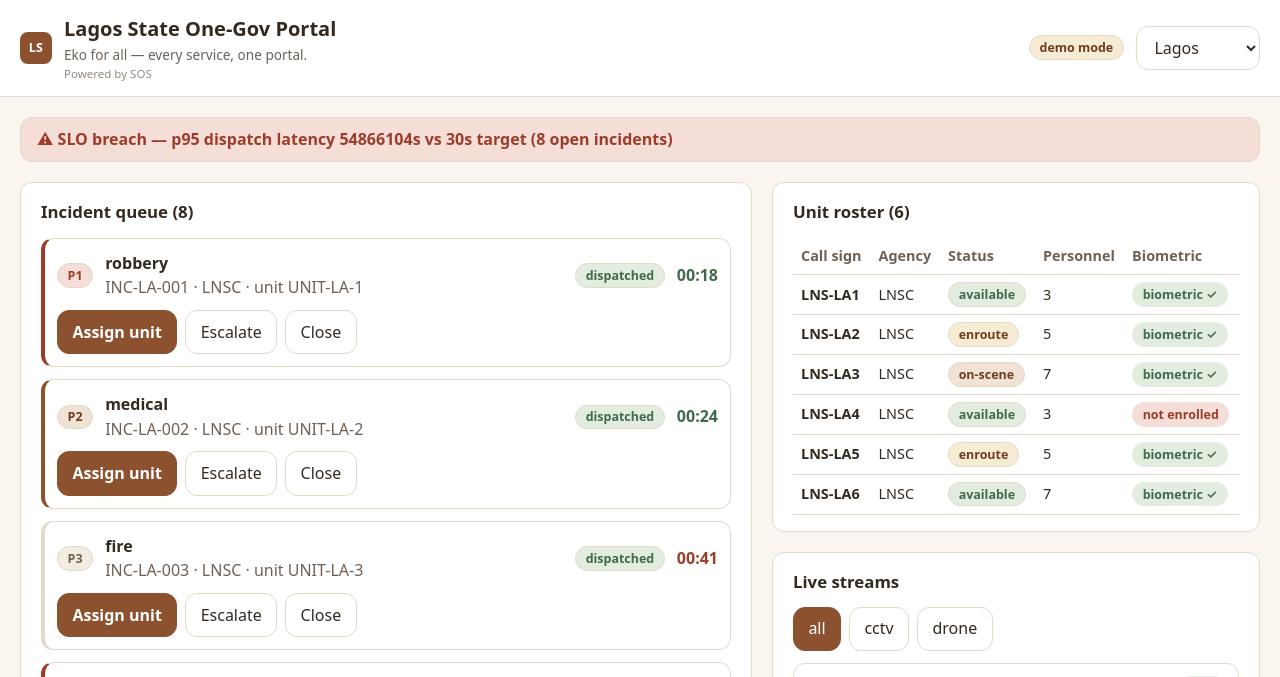
Test: dispatch console (demo mode) › escalate bumps an incident to escalated/P1
The image size is (1280, 677).
Expected: the heading "Incident queue (8)" is shown, [41,200,193,224]
Click the button "Escalate" below "INC-LA-001": [231, 332] box [185,310,277,354]
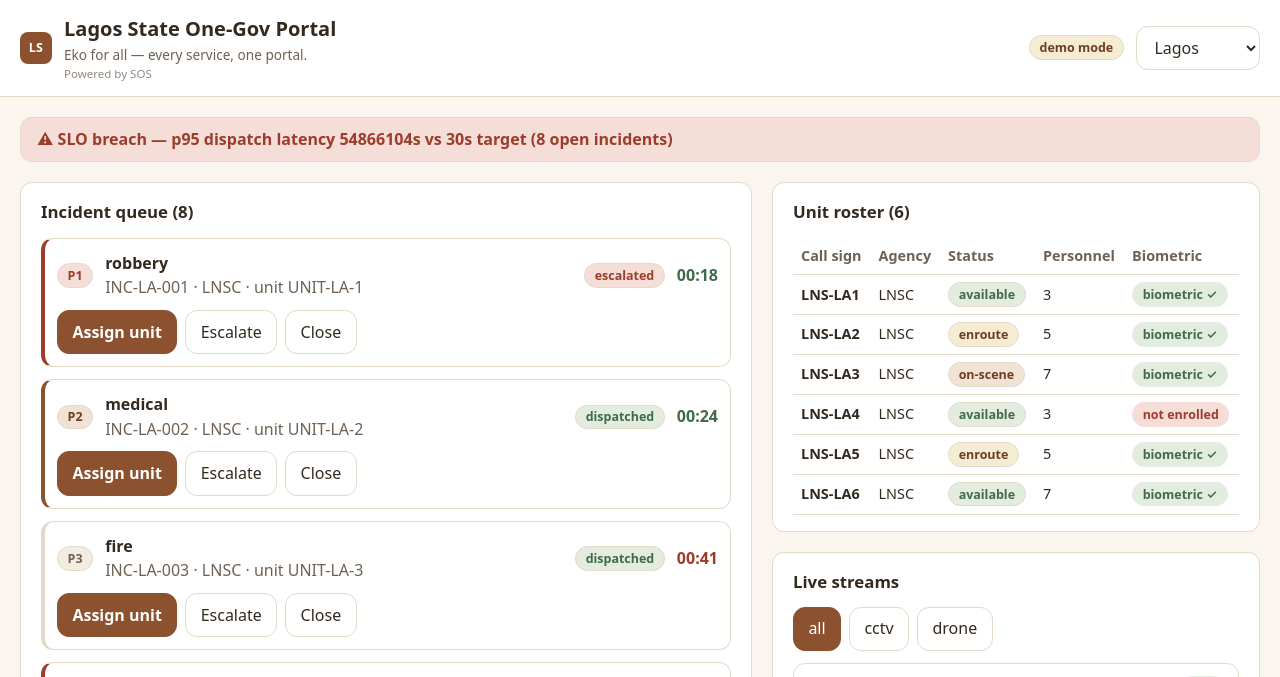
Expected: the text "escalated" is shown, [584,263,665,288]
